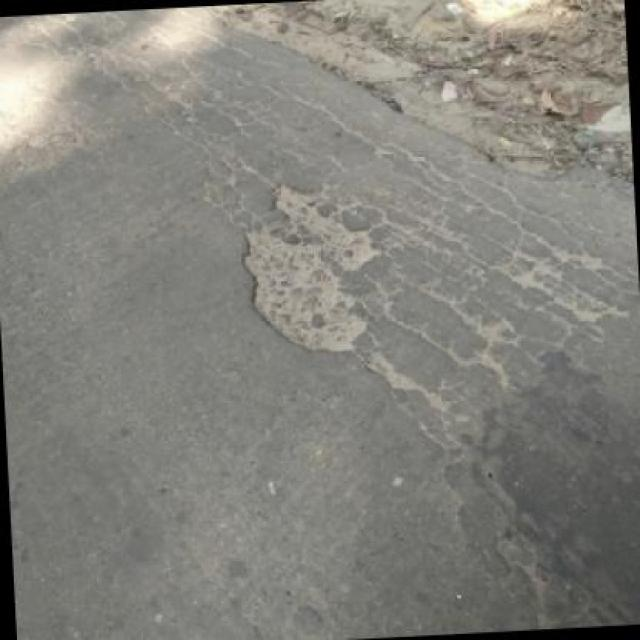pothole1: (232, 176, 388, 358)
